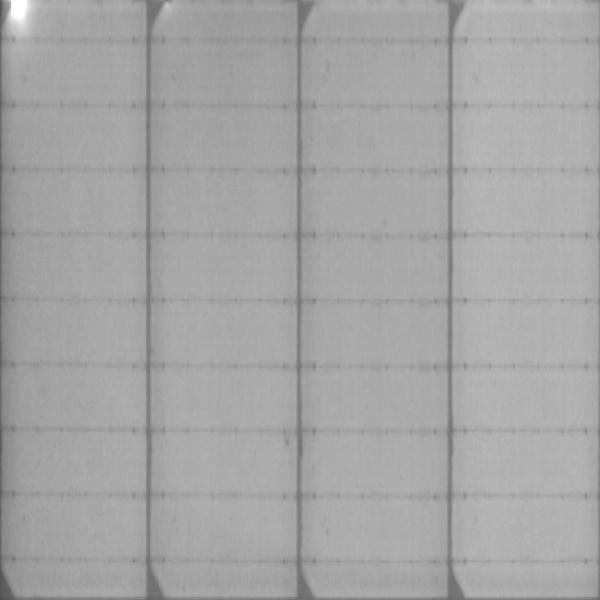hot_spot: (8, 1, 30, 25)
